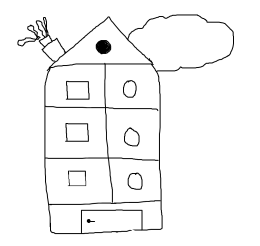clouds: (126, 12, 235, 72)
door: (76, 205, 147, 236)
open_window: (64, 121, 91, 143), (66, 79, 90, 100), (122, 125, 140, 148), (121, 78, 138, 97), (127, 172, 144, 191), (68, 171, 87, 186)
roof: (48, 16, 153, 66)
smoking_chimney: (11, 12, 66, 62)
wall: (40, 60, 163, 237)
